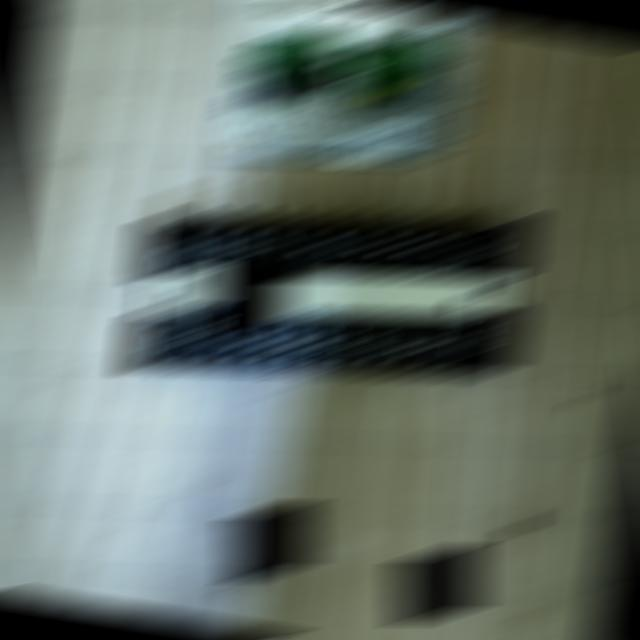Flathead_Block: (125, 217, 534, 370)
Terminal_1: (247, 35, 342, 79), (345, 42, 441, 85)
